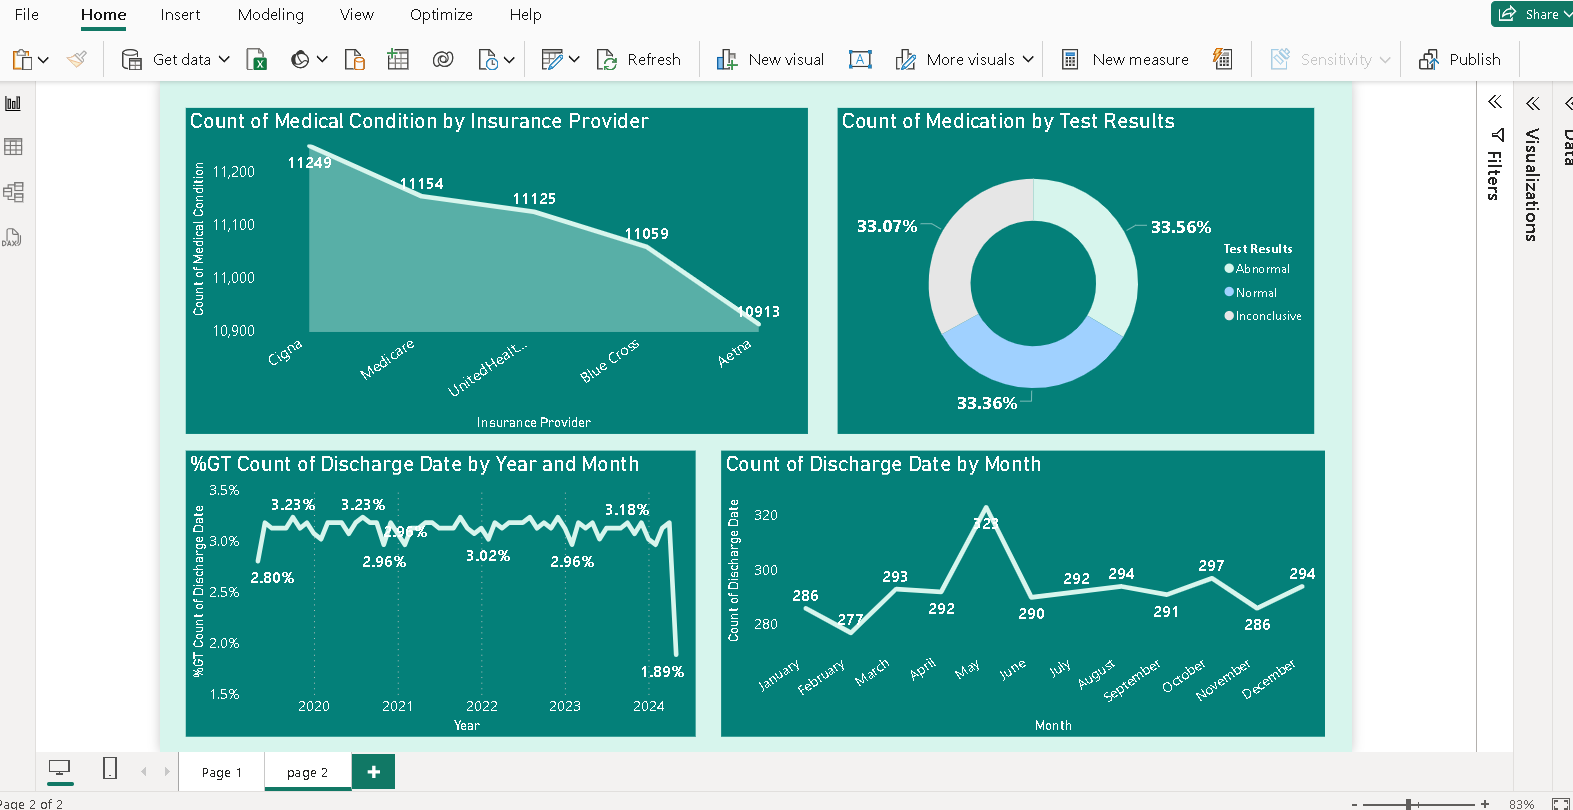

What the dashboard file says about the page in this screenshot:
{"tool":"powerbi","page":{"name":"page 2","canvas":[1280,720],"ordinal":1},"visuals":[{"type":"lineChart","fields":{"Category":["healthcare_dataset.Date of Admission.Variation.Date Hierarchy.Year","healthcare_dataset.Date of Admission.Variation.Date Hierarchy.Month"],"Y":["Divide(Count(healthcare_dataset.Discharge Date), ScopedEval(Count(healthcare_dataset.Discharge Date), []))"]},"box":[27.9,396.8,547.1,306.9],"z":0},{"type":"lineChart","fields":{"Category":["healthcare_dataset.Date of Admission.Variation.Date Hierarchy.Month"],"Y":["Count(healthcare_dataset.Discharge Date)"]},"box":[602.9,396.8,647.8,306.9],"z":1000},{"type":"donutChart","fields":{"Category":["healthcare_dataset.Test Results"],"Y":["CountNonNull(healthcare_dataset.Medication)"]},"box":[726.9,29.4,511.4,350.3],"z":2000},{"type":"areaChart","fields":{"Category":["healthcare_dataset.Insurance Provider"],"Y":["CountNonNull(healthcare_dataset.Medical Condition)"]},"box":[27.9,29.4,668,350.3],"z":3000}]}

Visuals, with their boxes on the page's 1280x720 design canvas (x1, y1, x2, y2). These are canvas units, not pixel positions in the 1573x810 screenshot, which may show the page scaled, cropped or inside an application window:
lineChart - healthcare_dataset.Date of Admission.Variation.Date Hierarchy.Year x healthcare_dataset.Date of Admission.Variation.Date Hierarchy.Month: <box>28,397,575,704</box>
lineChart - healthcare_dataset.Date of Admission.Variation.Date Hierarchy.Month x Count(healthcare_dataset.Discharge Date): <box>603,397,1251,704</box>
donutChart - healthcare_dataset.Test Results x CountNonNull(healthcare_dataset.Medication): <box>727,29,1238,380</box>
areaChart - healthcare_dataset.Insurance Provider x CountNonNull(healthcare_dataset.Medical Condition): <box>28,29,696,380</box>
